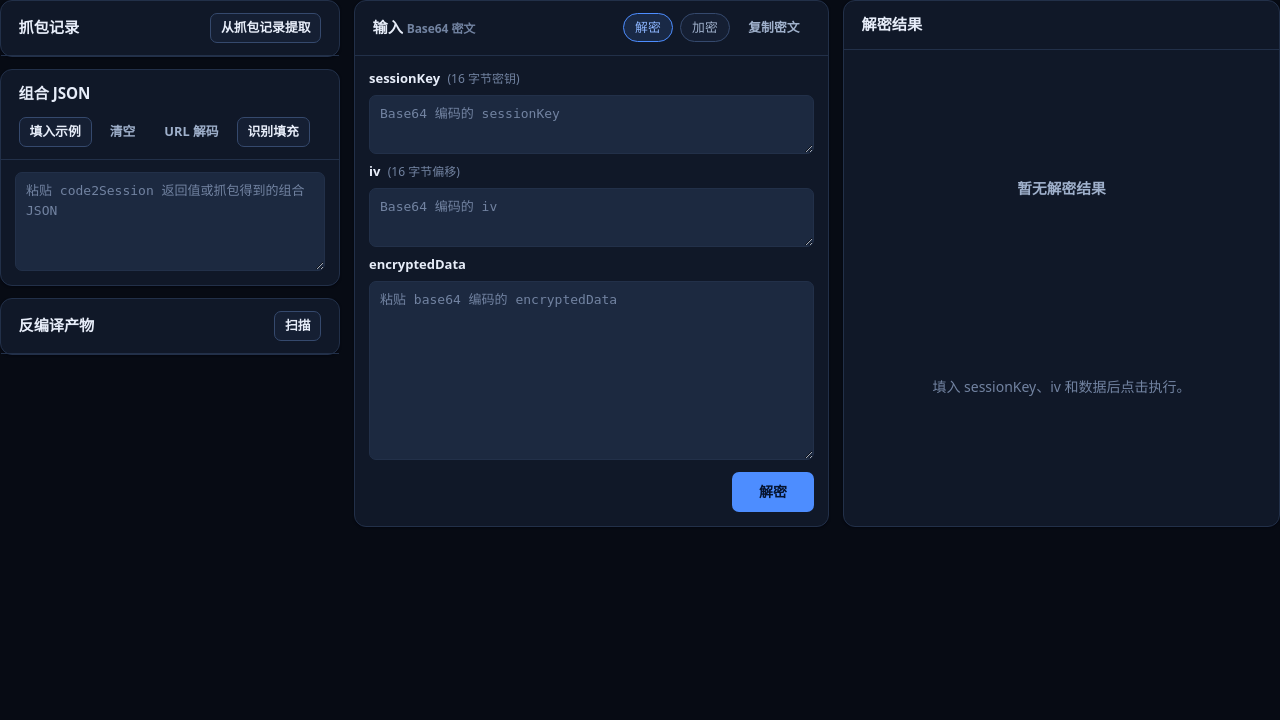
Scenario: SessionKeyView › reports an empty capture scan
Click the button with test id "scan-traffic": [266, 28] box [210,13,321,43]
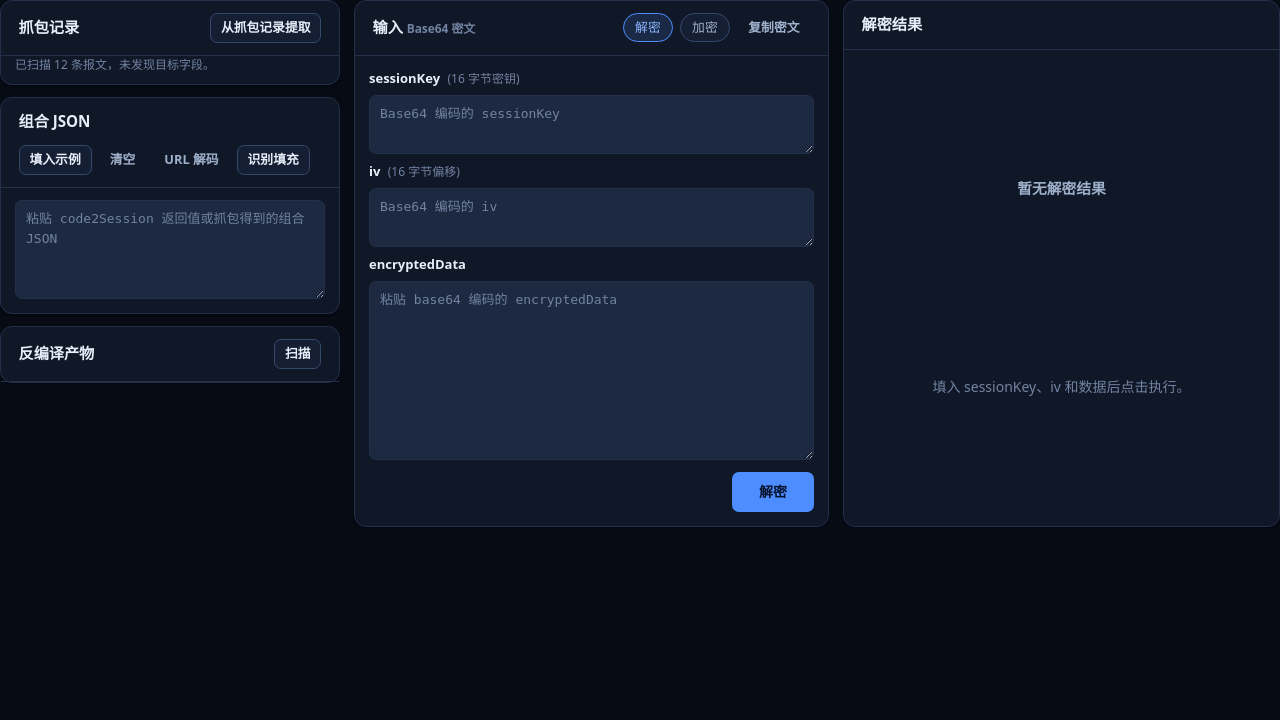
Now the text "已扫描 12 条报文" is shown, box [15,56,215,73]
